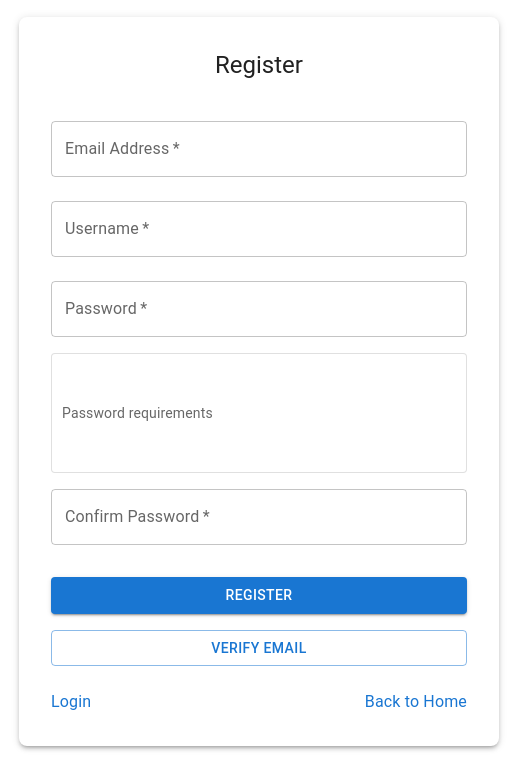
RegistrationPage › handles whitelist error and shows generic message instead of password hint
Type "notwhitelisted@example.com" into the field labelled "Email Address *" at (259, 149), box [51, 121, 467, 177]
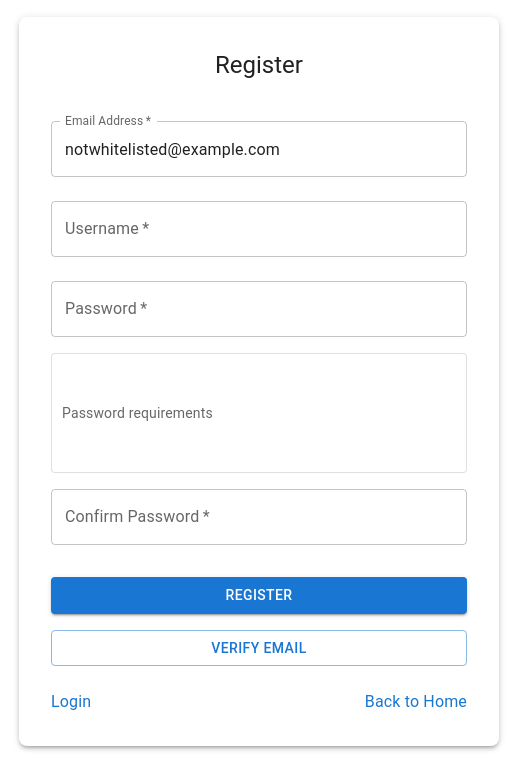
Type "User" into the field labelled "Username *" at (259, 229), box [51, 201, 467, 257]
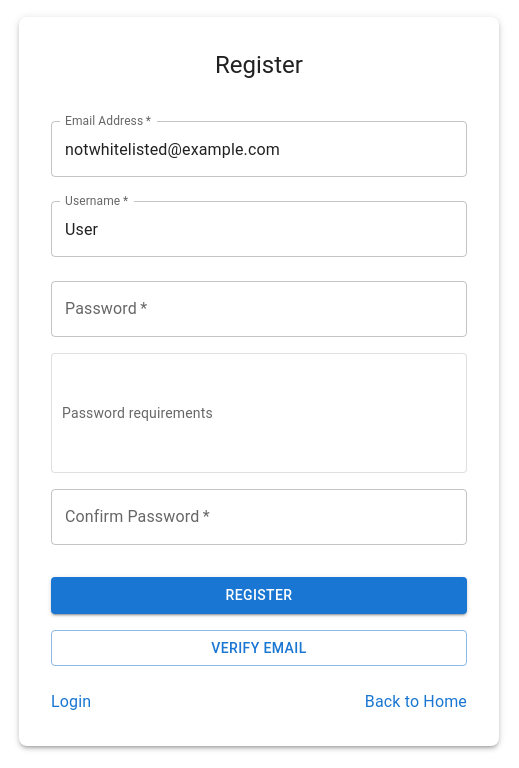
Type "Password123@" into the password field labelled "Password *" at (259, 309), box [51, 281, 467, 337]
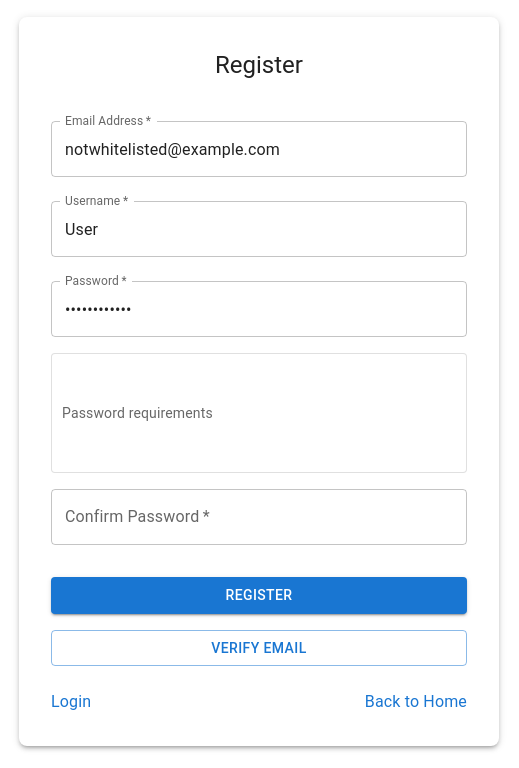
Type "Password123@" into the password field labelled "Confirm Password *" at (259, 517), box [51, 489, 467, 545]
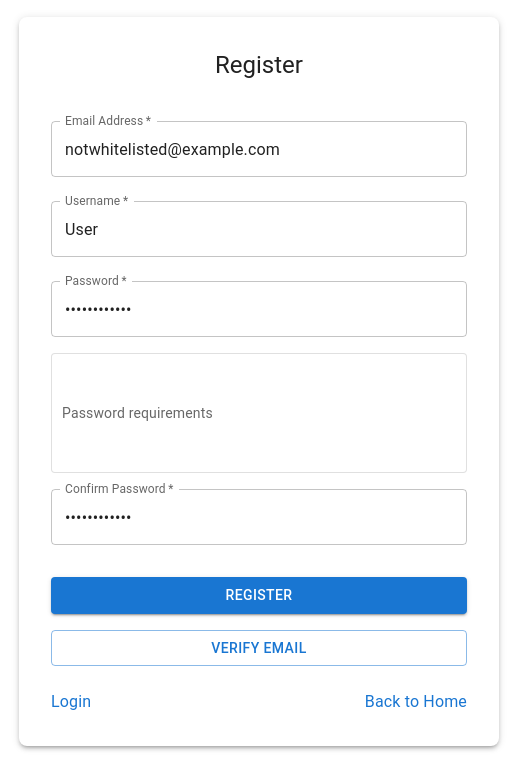
Click the button "Register" at (259, 595), box [51, 577, 467, 614]
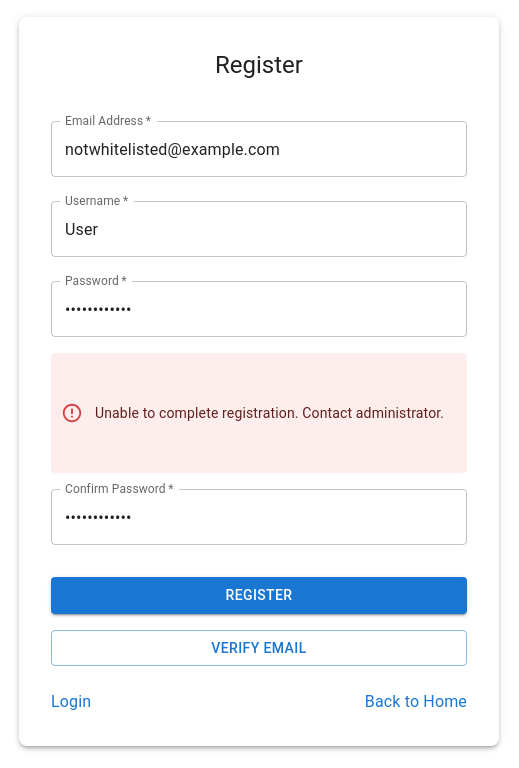
Result: the message "Unable to complete registration. Contact administrator." is shown at [51, 353, 467, 473]
